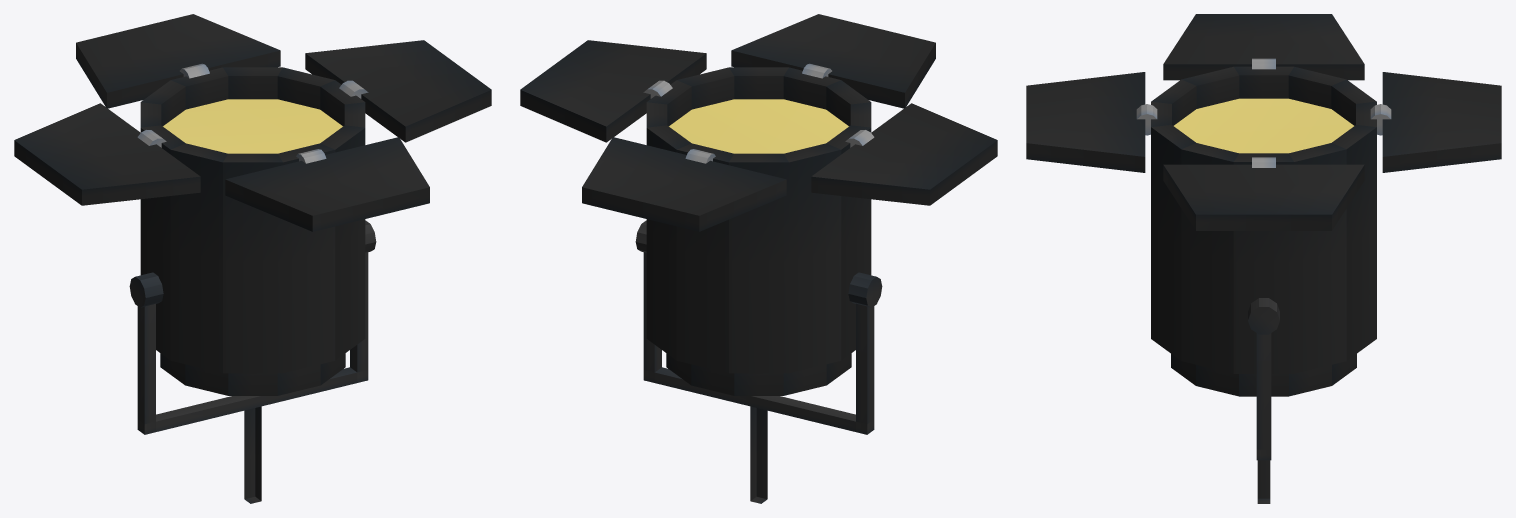
Rendered from foco.fbx.
The picture shows the model from 3 angles, left to right: view 1: azimuth 30°, elevation 25°; view 2: azimuth 150°, elevation 25°; view 3: azimuth 270°, elevation 25°; orthographic projection.
Parts seen in each view (by area): view 1: Cilindro.001, Cubo, Cubo.001, Cubo.002, Cubo.003, Cilindro, Cilindro.003, Cilindro.002; view 2: Cilindro.001, Cubo, Cubo.001, Cubo.002, Cubo.003, Cilindro, Cilindro.003, Cilindro.002; view 3: Cilindro.001, Cubo, Cubo.001, Cubo.002, Cilindro, Cilindro.002, Cubo.003, Cilindro.003.
Boxes of the visible parts, bbox=[...] form: Cilindro.001: bbox=[140, 67, 365, 395]; Cubo: bbox=[14, 40, 491, 205]; Cubo.001: bbox=[76, 14, 429, 231]; Cubo.002: bbox=[137, 252, 368, 434]; Cubo.003: bbox=[244, 406, 261, 503]; Cilindro: bbox=[129, 220, 376, 307]; Cilindro.003: bbox=[137, 80, 368, 147]; Cilindro.002: bbox=[180, 63, 326, 163]; Cilindro.001: bbox=[646, 67, 871, 395]; Cubo: bbox=[520, 40, 997, 205]; Cubo.001: bbox=[582, 14, 935, 231]; Cubo.002: bbox=[643, 252, 874, 434]; Cubo.003: bbox=[750, 406, 767, 503]; Cilindro: bbox=[635, 220, 882, 307]; Cilindro.003: bbox=[643, 80, 874, 147]; Cilindro.002: bbox=[685, 63, 831, 163]; Cilindro.001: bbox=[1151, 66, 1376, 396]; Cubo: bbox=[1163, 14, 1364, 230]; Cubo.001: bbox=[1026, 72, 1501, 172]; Cubo.002: bbox=[1256, 333, 1271, 460]; Cilindro: bbox=[1248, 298, 1279, 334]; Cilindro.002: bbox=[1136, 104, 1391, 135]; Cubo.003: bbox=[1257, 460, 1270, 503]; Cilindro.003: bbox=[1252, 58, 1275, 167].
Bounding box in the file's own units: 407 × 370 × 407.
Materials: 1 (1 with a texture image).
